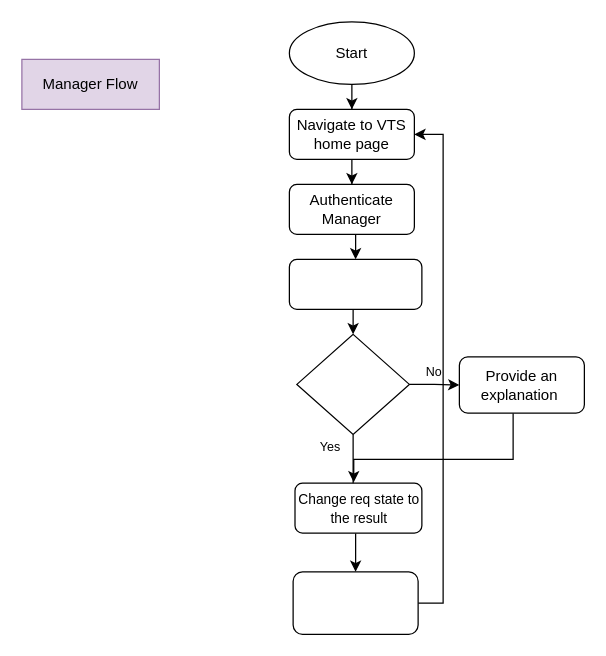
Image size: 606x656. Some labels were removed from this diagram. The centre of each missing label's shape, as x and y in pixels:
"Is request approved?" belongs at point 352,383.
"Process vacation requests" belongs at point 355,283.
"Send e-mail notification to the employee" belongs at point 355,602.
